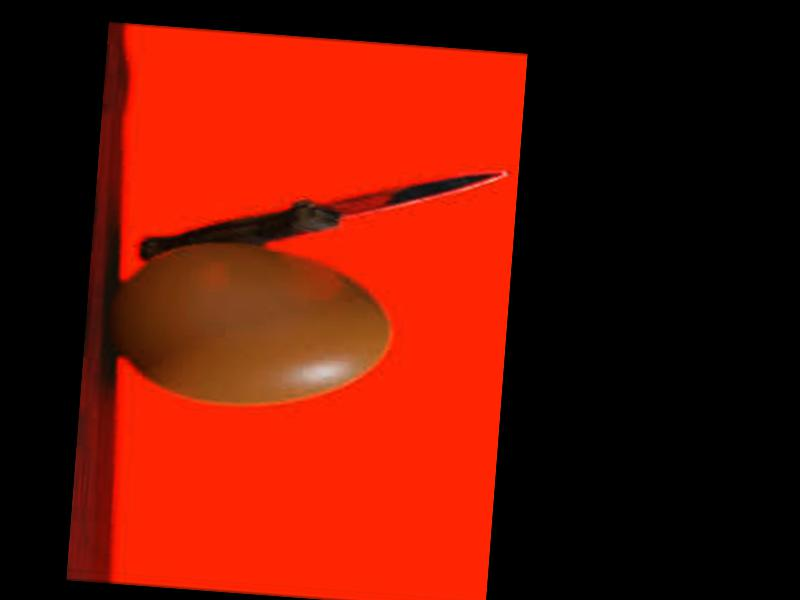Eggs: (110, 235, 394, 414)
